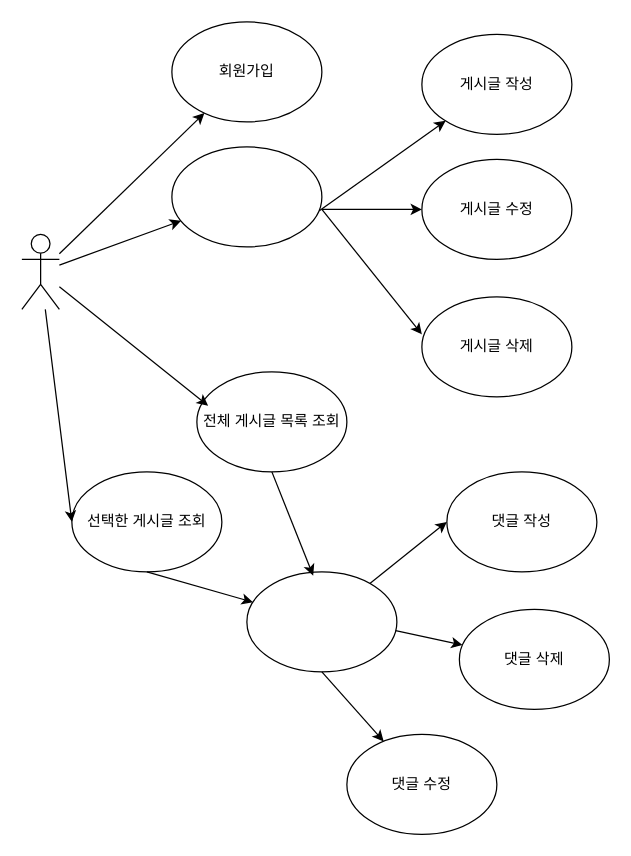
The diagram is 631 pixels wide and 856 high, and some of its shapes have lost their labels. Here are the shapes that lost their labels. From the top down, the centre of each, then its label:
At pixel 246 196: "로그인".
At pixel 40 271: "회원".
At pixel 321 621: "게시글 상세".
